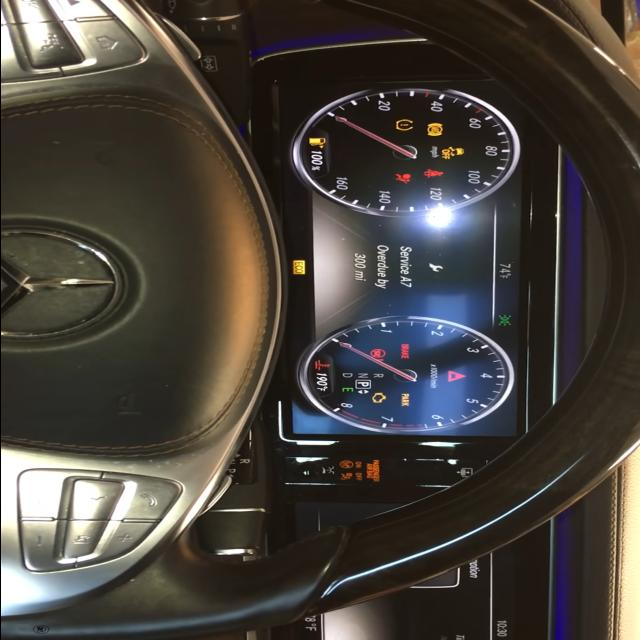Anti Lock Braking System: (425, 122, 443, 136), (426, 124, 442, 136)
Braking System Issue: (401, 344, 408, 358)
Check Engine: (371, 393, 385, 403)
Engine Overheating Warning Light: (313, 360, 329, 370), (314, 360, 329, 370)
Low Tire Pressure Warning Light: (394, 119, 413, 131), (395, 120, 413, 130)
SRS-Airbag: (393, 173, 411, 184), (394, 174, 410, 184)
